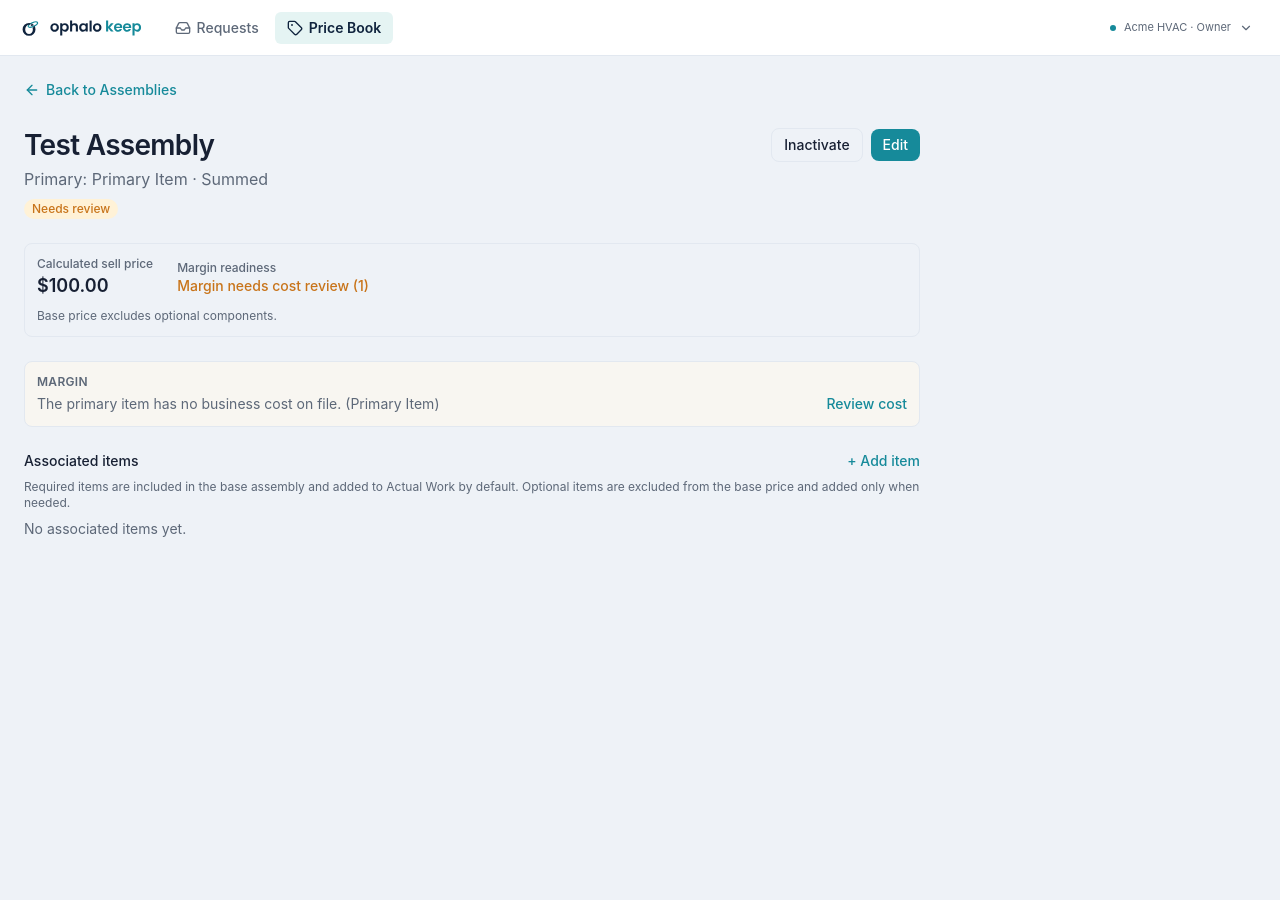
Scenario: App — Assembly repair-loop routing › clicking a margin reason's 'Review cost' link routes with returnToAssemblyReason=margin and shows cost-repair guidance
Click the button "Review cost" at (867, 404), box [826,394,907,414]
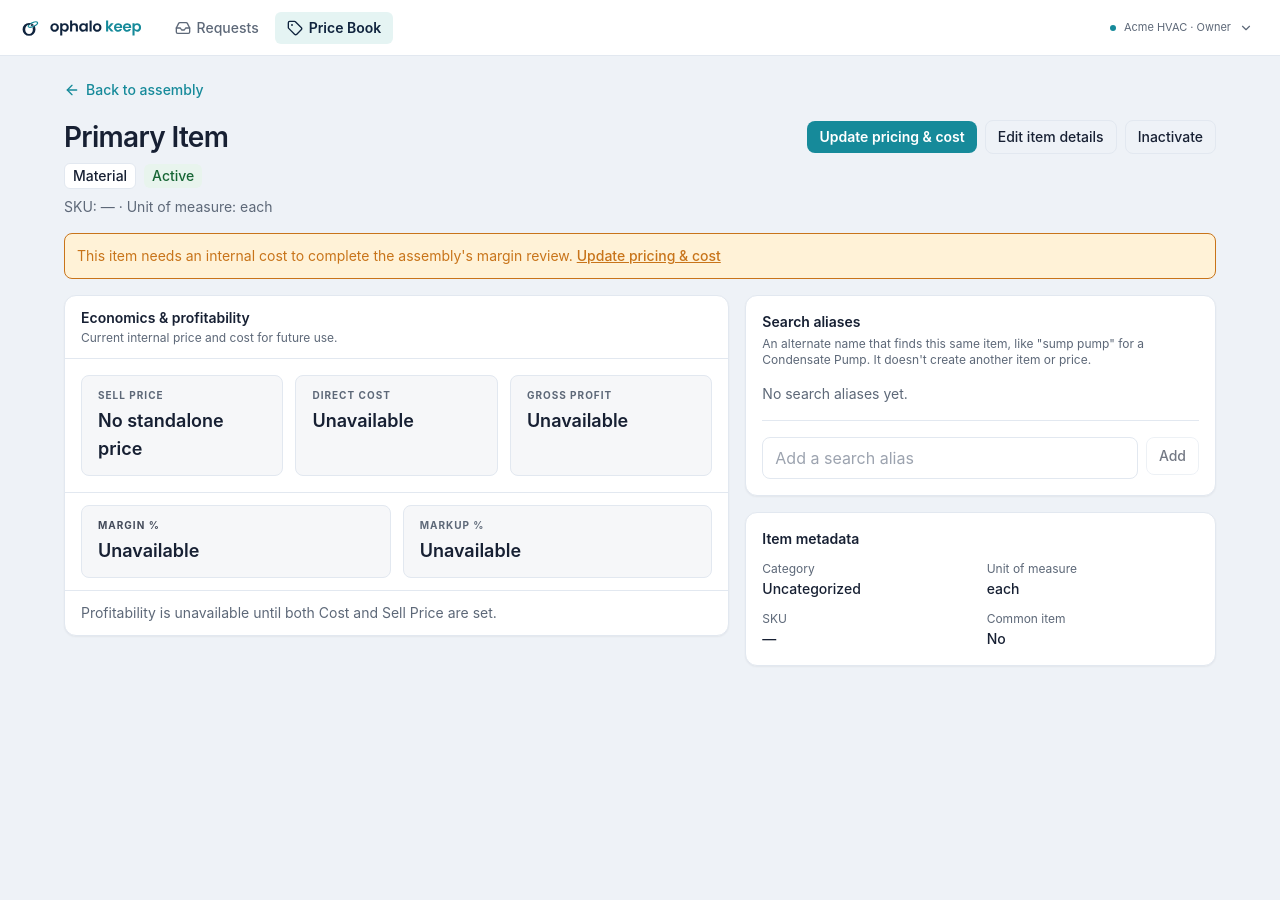
expect the button "Back to assembly" is shown: met, box [64,80,204,100]
expect the text "This item needs an internal cost to complete the assembly's margin review." is shown: met, box [77,247,573,264]
expect the button "Update pricing & cost" in the row of "Primary Item" is shown: met, box [808,121,977,153]
